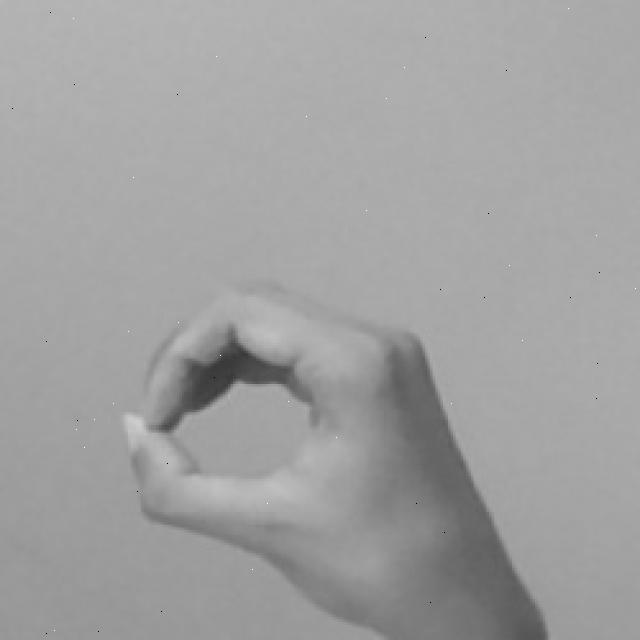O: (117, 280, 554, 640)
